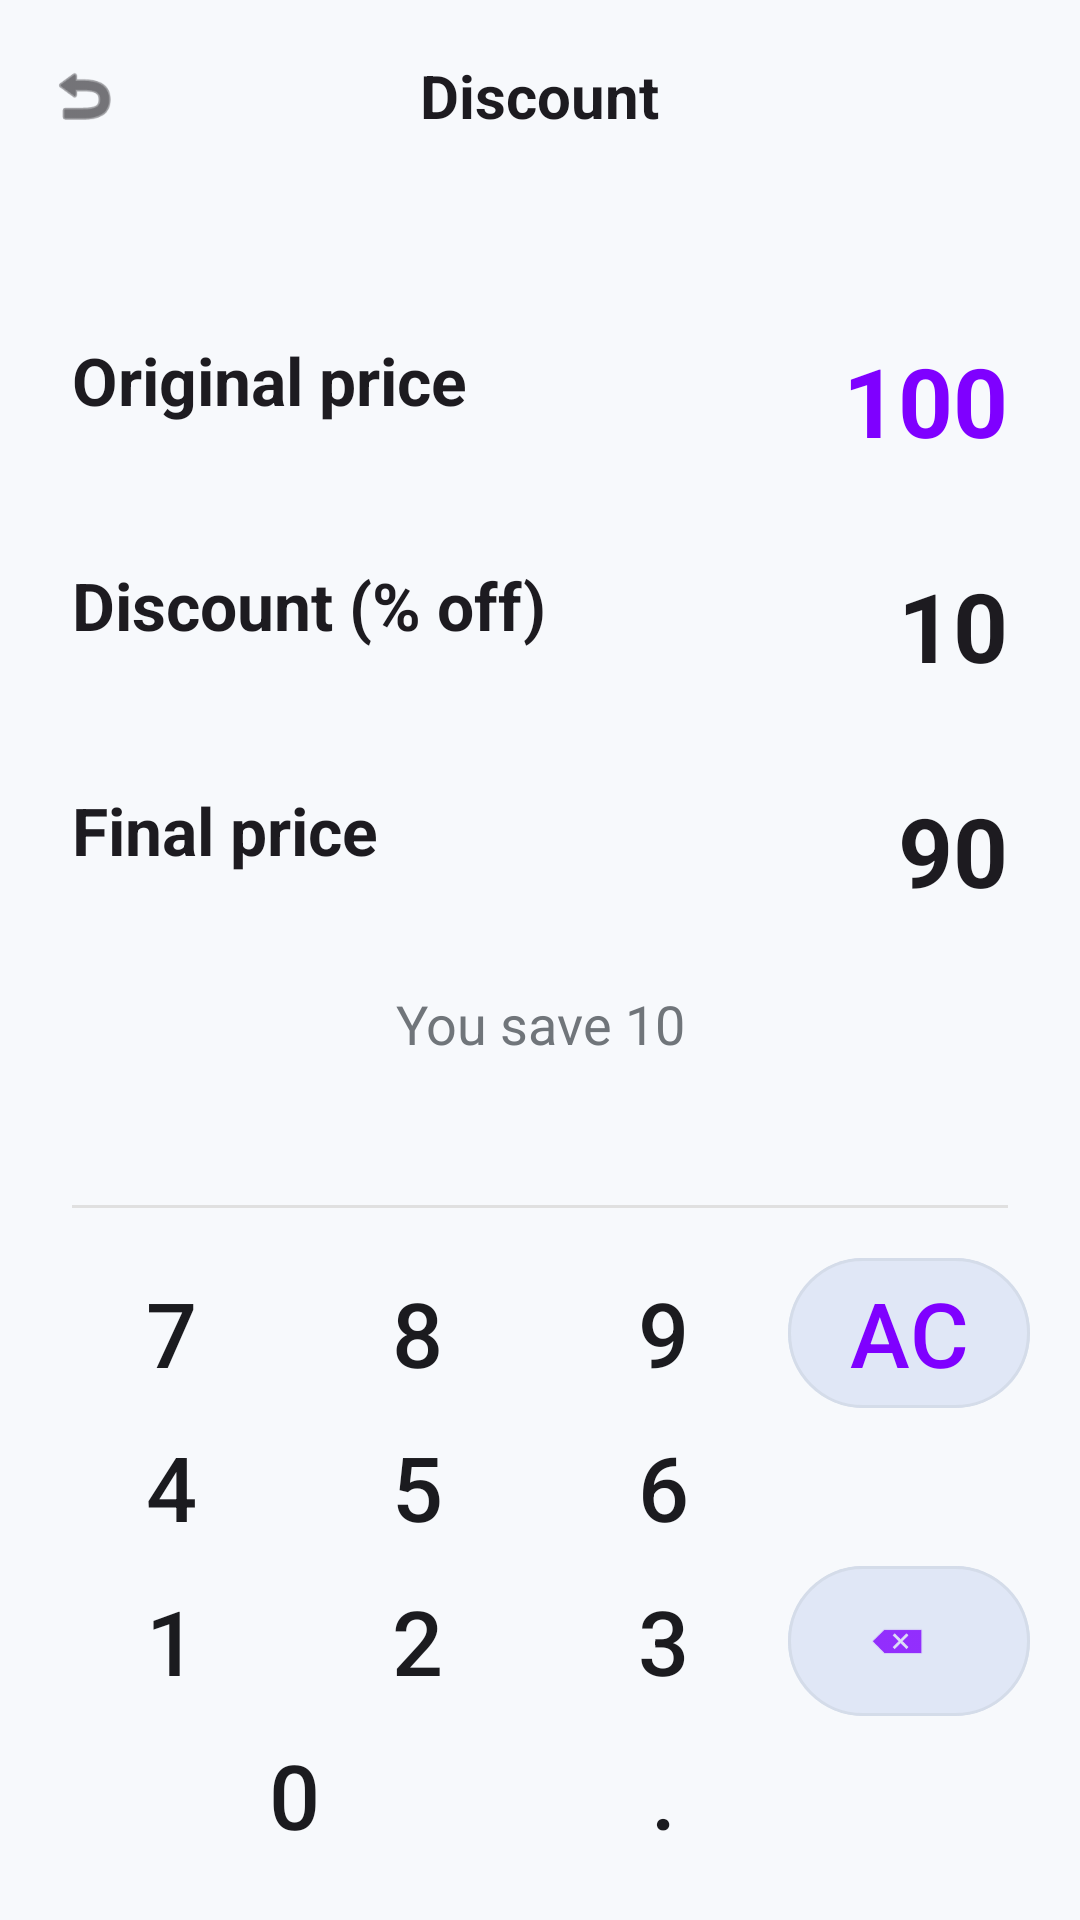

Icons on this 1080 × 1920 Android screen, each with the point to tap as (x=x, y=y):
delete: (x=909, y=1641)
revert: (x=85, y=96)
